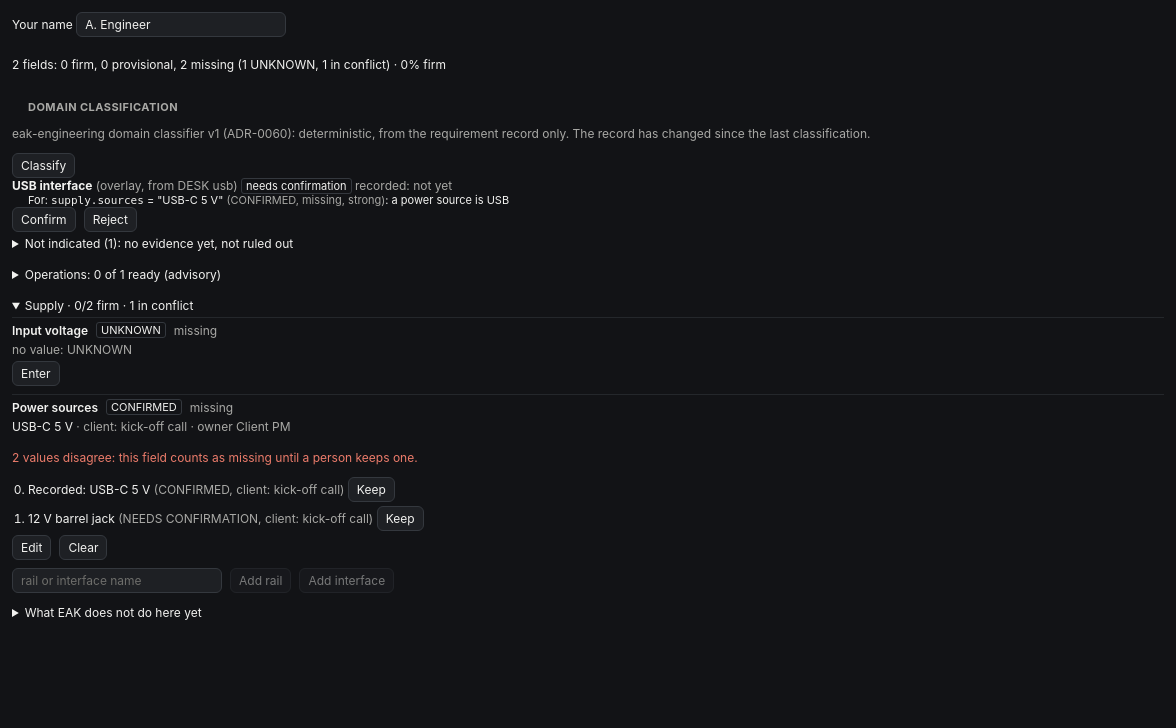
Test: RequirementsPanel › enters a value as NEEDS_CONFIRMATION with its unit, source and risk, never forced over another
Later steps or results of the test are not shown.
Expected: the text named "Completeness" is shown, [12, 57, 446, 72]
Click the button "Enter" at (36, 374), box [12, 361, 60, 386]
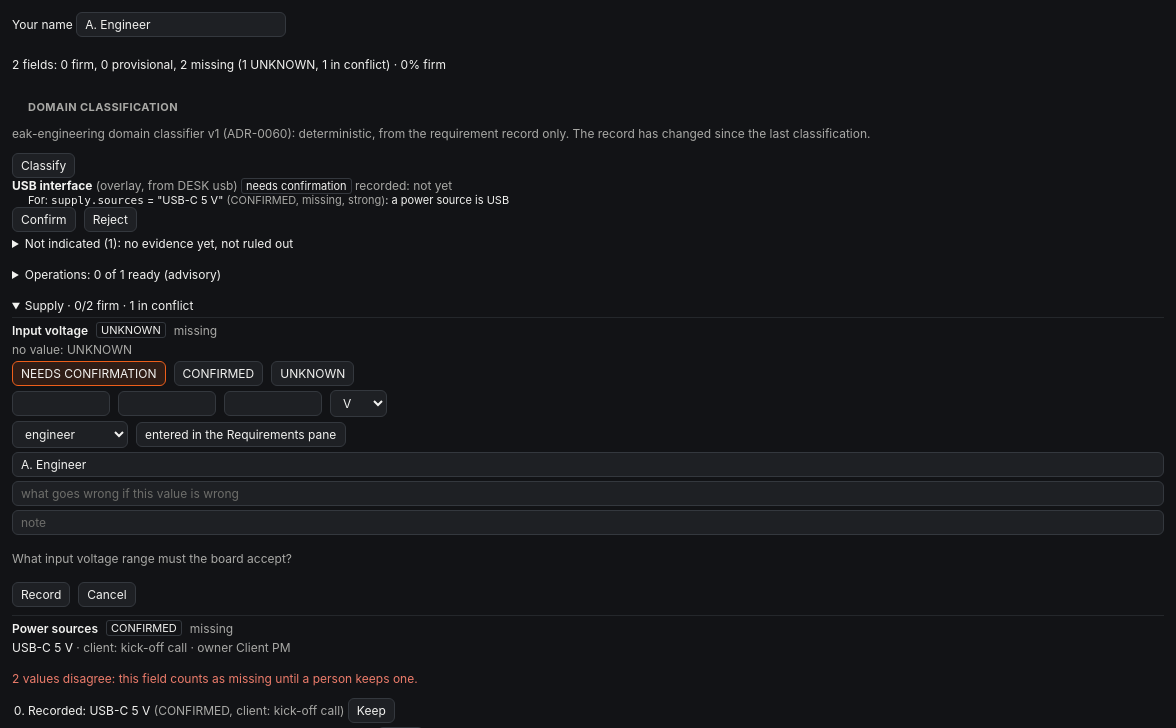
Type "5" into the field named "Nominal" at (167, 404), box [118, 391, 216, 416]
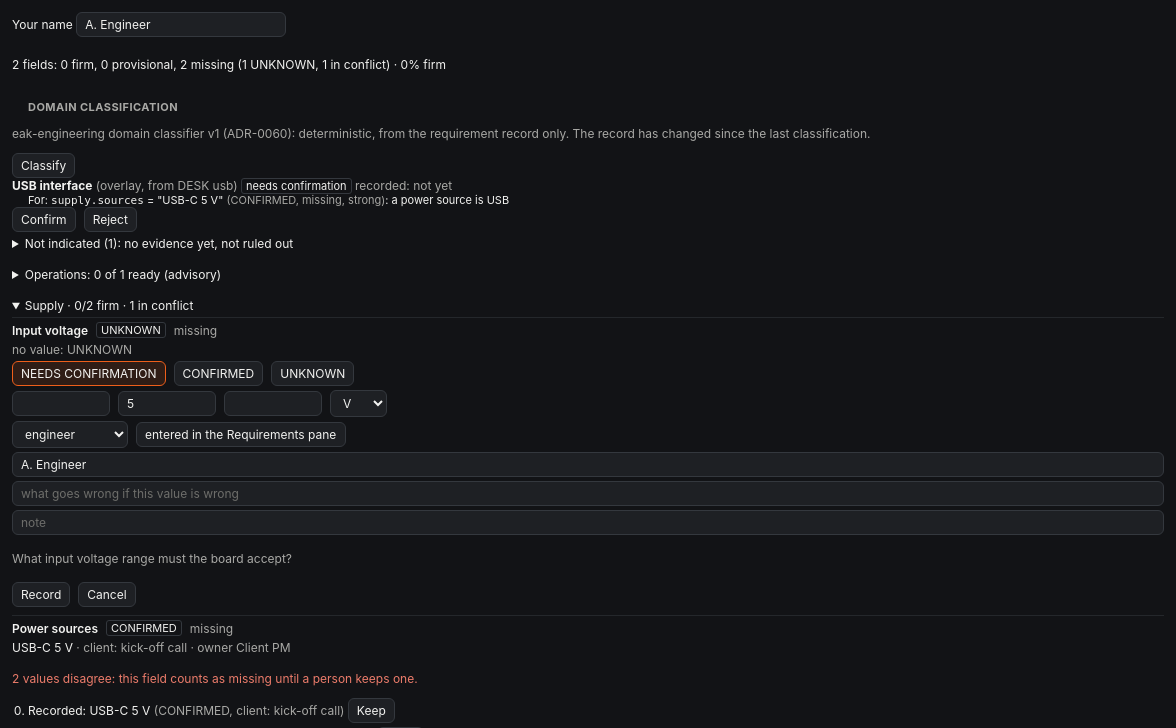
Type "the regulator is re-selected" into the field named "Risk if wrong" at (588, 494), box [12, 481, 1164, 506]
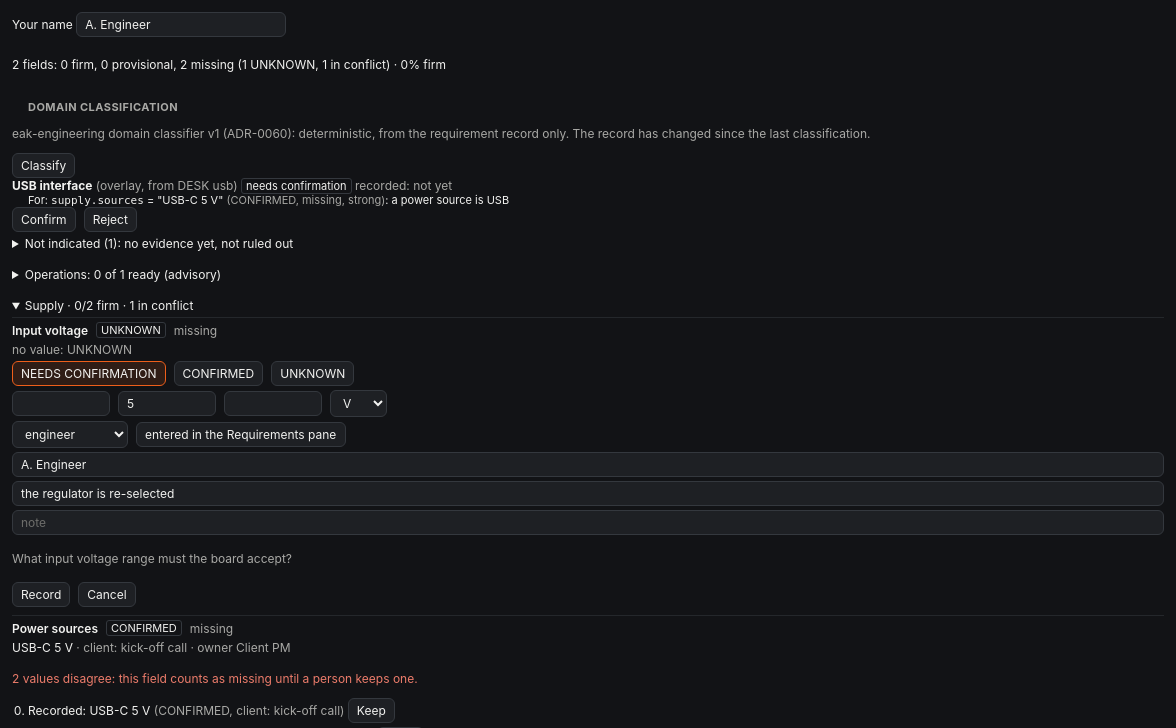
Now the dropdown named "Unit" shows "V", box [330, 390, 387, 417]
